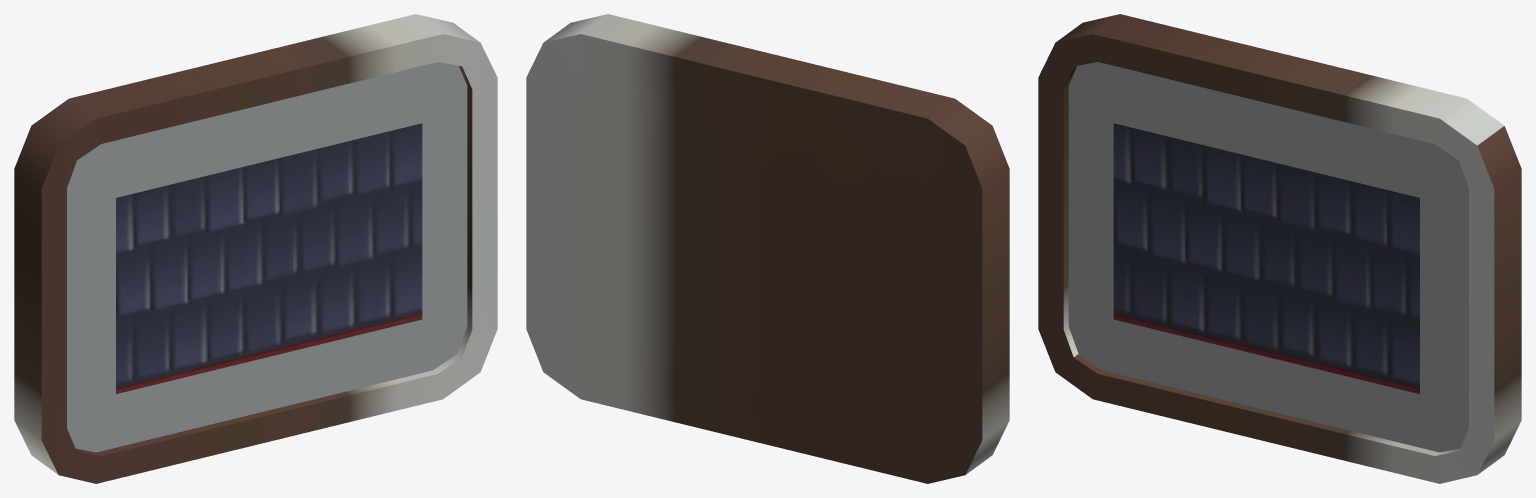
The model's file is floor-panel01-art.glb.
3 views of the same model, side by side, from view 1: azimuth 30°, elevation 25°; view 2: azimuth 150°, elevation 25°; view 3: azimuth 330°, elevation 25° (orthographic).
Parts seen in each view (by area): view 1: FloorPanel01_Art; view 2: FloorPanel01_Art; view 3: FloorPanel01_Art.
Part boxes in pixels (x1=…): FloorPanel01_Art: x1=14, y1=14, x2=497, y2=483; FloorPanel01_Art: x1=526, y1=14, x2=1009, y2=483; FloorPanel01_Art: x1=1038, y1=14, x2=1521, y2=483.
Size of the model in its own units: 1.19 by 0.9104 by 0.1233.
Materials: 2 (2 with a texture image).
